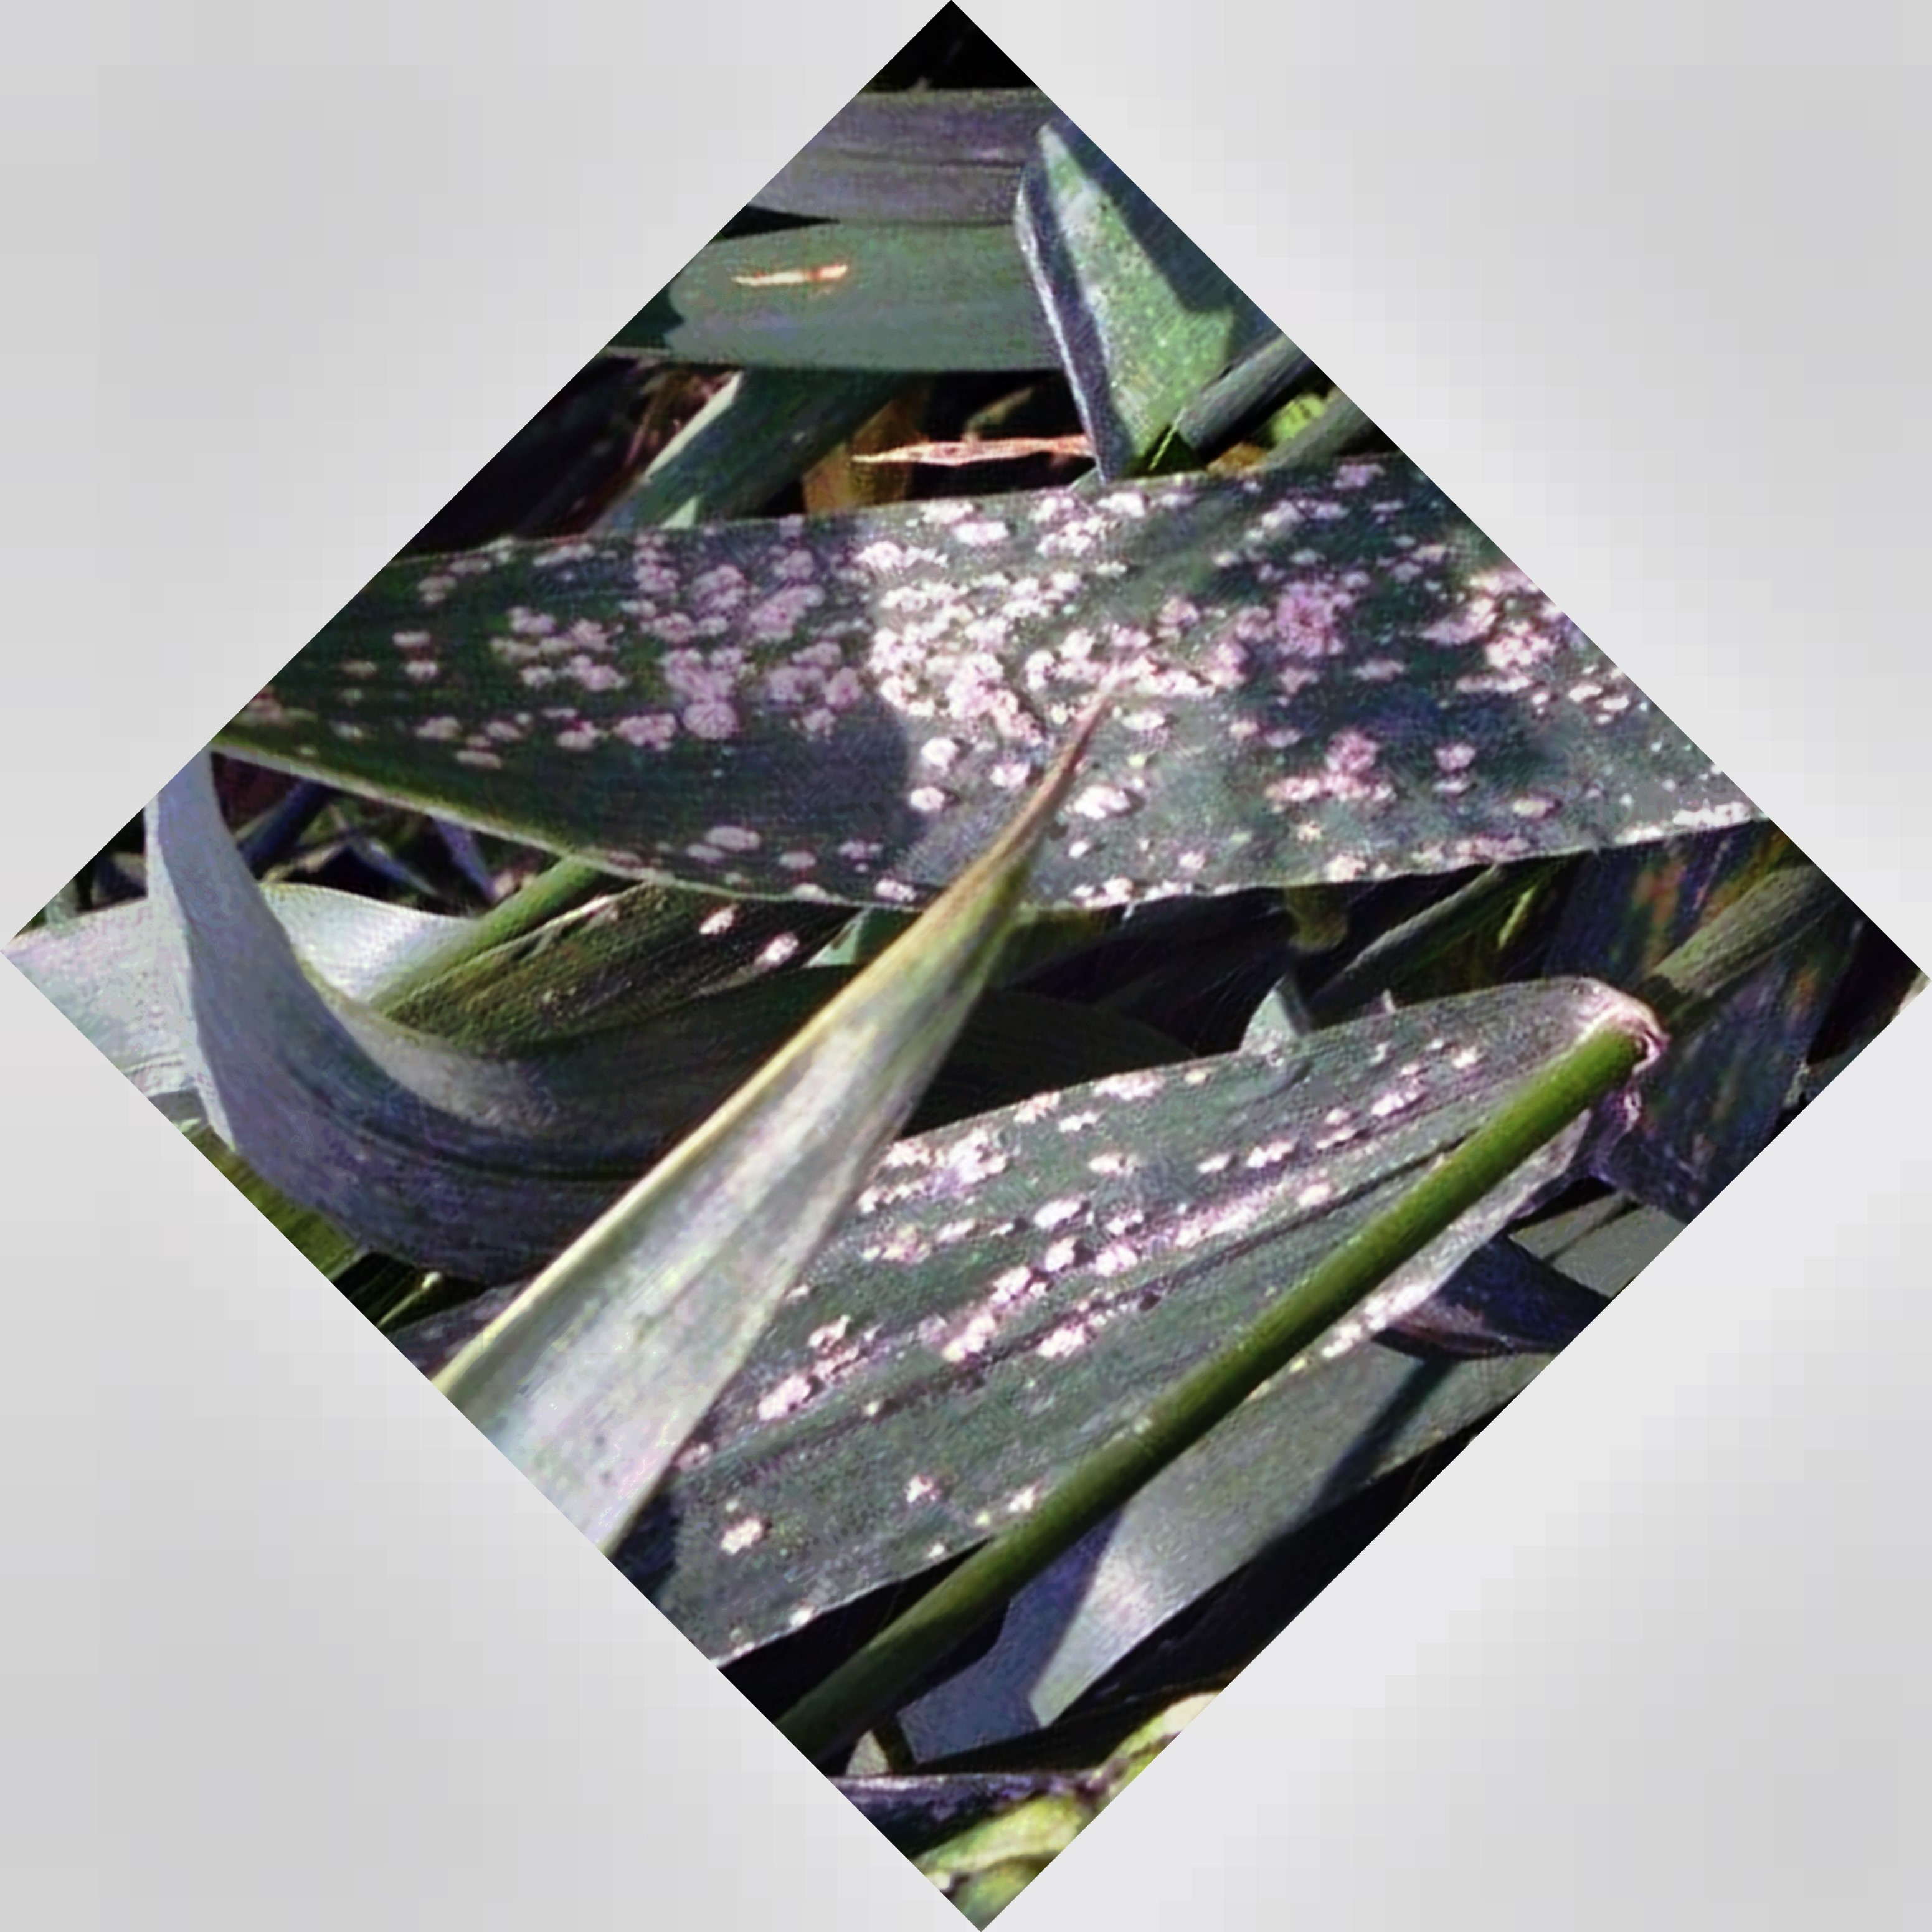Powdery Mildew: (421, 442, 1610, 883)
